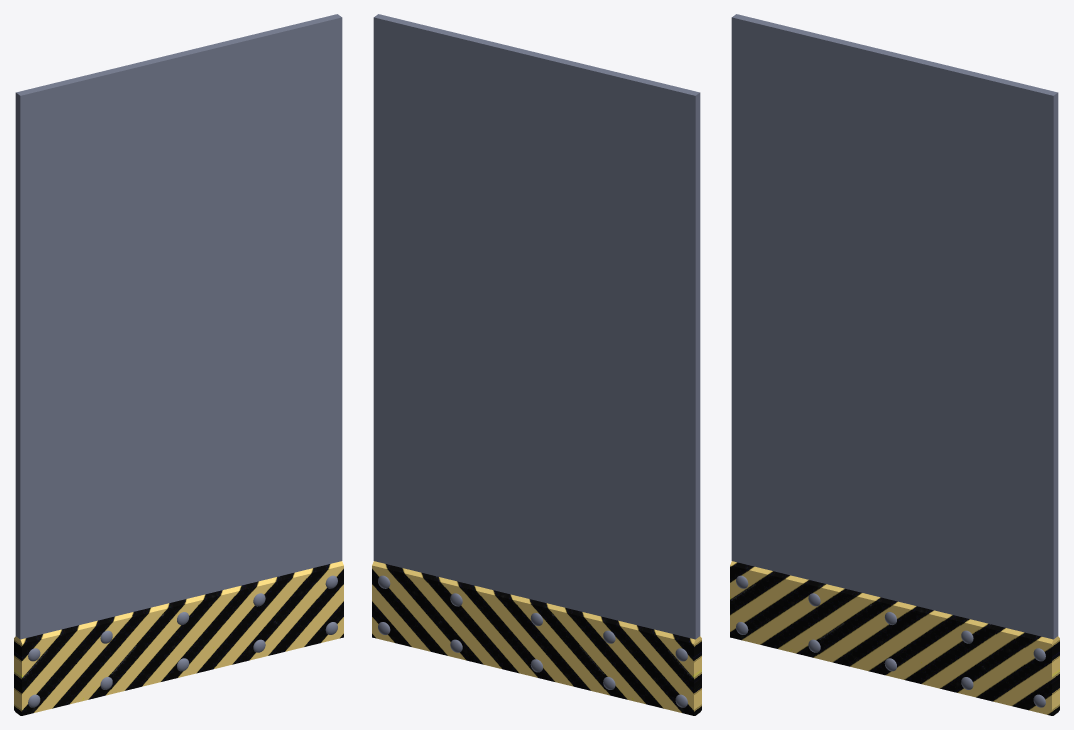
Rendered from Door.fbx.
The picture shows the model from 3 angles, left to right: view 1: azimuth 30°, elevation 25°; view 2: azimuth 150°, elevation 25°; view 3: azimuth 330°, elevation 25°; orthographic projection.
Visible parts, largest first — view 1: polySurface17; view 2: polySurface17; view 3: polySurface17.
Part boxes in pixels (box(x1,y1,x2,y2)): polySurface17: box(14, 14, 343, 715); polySurface17: box(372, 14, 701, 715); polySurface17: box(730, 14, 1059, 715).
Size of the model in its own units: 400 by 737 by 23.55.
Materials: 1 (1 with a texture image).
